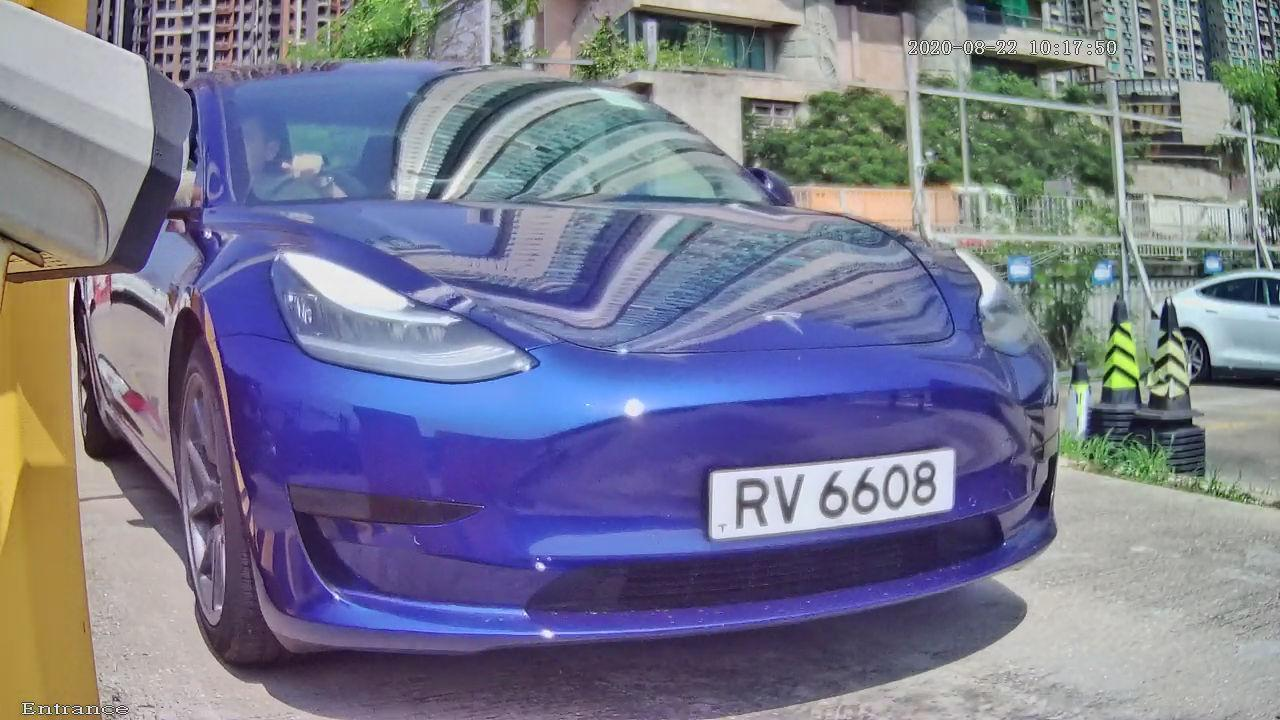Car: (6, 1, 1161, 720)
License Plate: (692, 441, 961, 547)
